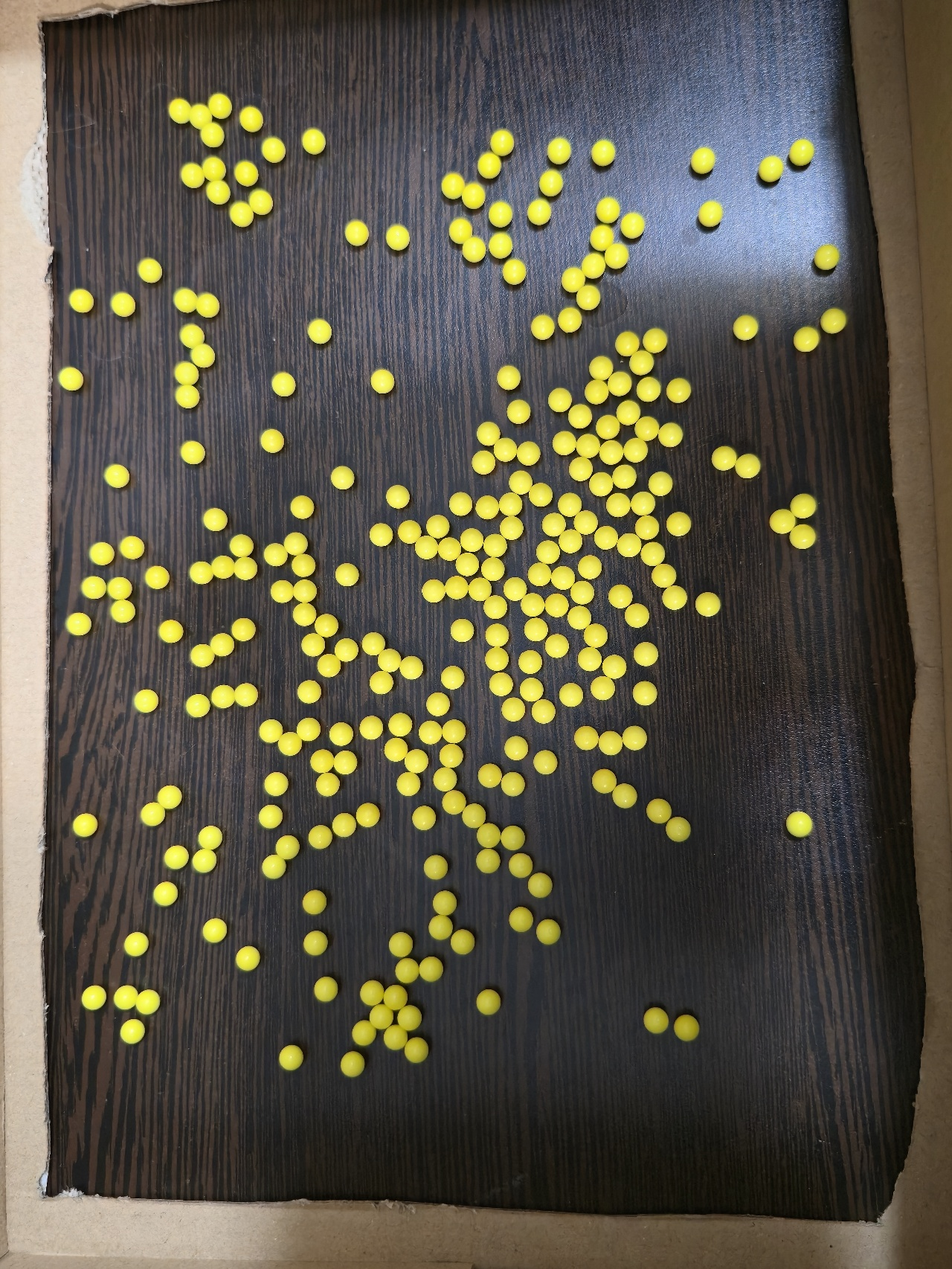yellow_bead: (174, 107, 218, 141), (185, 330, 208, 362), (179, 294, 213, 312), (792, 817, 806, 831), (139, 996, 154, 1009), (796, 530, 810, 543), (313, 324, 326, 338), (235, 207, 248, 221), (795, 145, 808, 159), (180, 367, 192, 382), (215, 562, 231, 573), (776, 515, 789, 528), (797, 500, 810, 513), (605, 446, 618, 459), (635, 356, 648, 369), (800, 333, 813, 346), (198, 853, 210, 867), (115, 605, 129, 617), (181, 388, 193, 402), (820, 251, 834, 263), (611, 249, 623, 263), (468, 243, 480, 257), (392, 230, 404, 244), (626, 219, 638, 233), (254, 195, 266, 209), (765, 162, 777, 176), (697, 153, 709, 167), (597, 146, 609, 160), (120, 992, 135, 1003), (351, 225, 362, 240), (126, 1026, 139, 1038), (130, 939, 143, 951), (208, 925, 221, 937), (268, 860, 280, 873), (204, 832, 216, 845), (146, 808, 159, 820), (628, 732, 641, 744), (298, 585, 311, 597), (238, 562, 251, 574), (672, 518, 685, 530), (504, 498, 516, 511), (618, 471, 631, 483), (741, 460, 754, 472), (718, 452, 730, 465), (582, 440, 594, 453), (664, 429, 677, 441), (602, 421, 614, 434), (595, 362, 607, 375), (649, 334, 661, 347), (740, 321, 752, 334), (827, 315, 840, 327), (564, 313, 576, 326), (117, 298, 129, 311), (582, 291, 594, 304), (567, 273, 579, 286), (704, 208, 716, 221), (212, 186, 224, 199), (307, 136, 320, 148), (217, 691, 231, 702), (196, 650, 210, 661), (509, 265, 520, 279), (495, 238, 506, 252), (268, 143, 279, 157), (242, 953, 254, 965), (482, 855, 494, 867), (506, 832, 518, 844), (483, 830, 495, 842), (672, 823, 684, 835), (402, 778, 414, 790), (510, 742, 522, 754), (425, 727, 437, 739), (265, 725, 277, 737), (538, 706, 550, 718), (139, 695, 151, 707), (639, 687, 651, 699), (608, 661, 620, 673), (584, 653, 596, 665), (640, 649, 652, 661), (590, 630, 602, 642), (702, 599, 714, 611), (669, 592, 681, 604), (614, 591, 626, 603), (584, 562, 596, 574), (489, 540, 501, 552), (506, 522, 518, 534), (641, 521, 653, 533), (613, 499, 625, 511), (637, 498, 649, 510), (535, 489, 547, 501), (595, 478, 607, 490), (654, 478, 666, 490), (515, 477, 527, 489), (629, 444, 641, 456), (559, 437, 571, 449), (641, 423, 653, 435), (673, 385, 685, 397), (495, 209, 507, 221), (186, 169, 198, 181), (163, 792, 176, 803), (238, 690, 251, 701), (87, 582, 100, 593), (556, 573, 569, 584), (125, 542, 138, 553), (289, 539, 302, 550), (481, 502, 494, 513), (574, 410, 585, 423), (591, 385, 602, 398), (643, 383, 654, 396), (278, 378, 289, 391), (377, 375, 388, 388), (144, 264, 155, 277), (588, 259, 599, 272), (214, 640, 228, 650), (71, 619, 85, 629), (196, 568, 210, 578), (547, 176, 557, 190), (285, 1052, 296, 1064), (88, 992, 100, 1003), (395, 939, 406, 951), (435, 922, 446, 934), (160, 889, 172, 900), (170, 852, 182, 863), (282, 842, 293, 854), (79, 820, 91, 831), (338, 820, 350, 831), (418, 812, 429, 824), (265, 812, 277, 823), (653, 806, 665, 817), (619, 791, 631, 802), (507, 778, 518, 790), (440, 774, 451, 786), (539, 756, 550, 768), (446, 750, 457, 762), (605, 738, 617, 749), (335, 729, 347, 740), (303, 687, 315, 698), (526, 684, 538, 695), (597, 683, 609, 694), (447, 672, 458, 684), (524, 657, 536, 668), (341, 644, 352, 656), (551, 641, 563, 652), (321, 620, 332, 632), (631, 611, 643, 622), (489, 602, 501, 613), (550, 600, 562, 611), (527, 600, 539, 611), (577, 587, 588, 599), (428, 586, 440, 597), (509, 584, 521, 595), (474, 584, 486, 595), (658, 571, 670, 582), (534, 569, 546, 580), (487, 563, 498, 575), (647, 549, 659, 560), (95, 548, 107, 559), (542, 547, 554, 558), (443, 544, 455, 555), (421, 542, 433, 553), (623, 540, 635, 551), (236, 540, 247, 552), (600, 533, 612, 544), (548, 519, 560, 530), (565, 499, 576, 511), (455, 498, 466, 510), (111, 470, 122, 482), (522, 448, 534, 459), (186, 447, 198, 458), (500, 444, 512, 455), (266, 435, 277, 447), (483, 428, 494, 440), (623, 407, 634, 419), (554, 394, 565, 406), (614, 378, 625, 390), (65, 373, 76, 385), (504, 372, 515, 384), (74, 295, 86, 306), (450, 584, 463, 594), (208, 515, 221, 525), (425, 964, 436, 975), (310, 938, 321, 949), (515, 914, 526, 925), (430, 862, 441, 873), (515, 861, 526, 872), (315, 832, 326, 843), (448, 798, 459, 809), (322, 779, 333, 790), (484, 771, 495, 782), (411, 756, 422, 767), (390, 745, 401, 756), (284, 739, 295, 750), (581, 733, 592, 744), (448, 726, 459, 737), (394, 719, 405, 730), (432, 699, 443, 710), (565, 690, 576, 701), (495, 679, 506, 690), (376, 677, 387, 688), (492, 654, 503, 665), (307, 640, 318, 651), (530, 624, 541, 635), (574, 612, 585, 623), (113, 583, 124, 594), (298, 560, 309, 571), (462, 559, 473, 570), (565, 536, 576, 547), (466, 535, 477, 546), (376, 530, 387, 541), (404, 527, 415, 538), (432, 522, 443, 533), (580, 518, 591, 529), (337, 472, 348, 483), (478, 457, 489, 468), (513, 406, 524, 417), (483, 997, 493, 1009), (321, 983, 331, 995), (543, 926, 553, 938), (439, 897, 449, 909), (469, 810, 479, 822), (270, 780, 282, 790), (339, 758, 351, 768), (508, 704, 518, 716), (405, 663, 417, 673), (384, 656, 396, 666), (299, 608, 309, 620), (277, 587, 289, 597), (270, 550, 282, 560), (576, 463, 586, 475), (621, 340, 633, 350), (538, 321, 548, 333), (602, 203, 614, 213), (553, 148, 565, 158), (309, 897, 319, 908), (534, 880, 544, 891), (599, 777, 610, 787), (303, 725, 314, 735), (366, 723, 377, 733), (492, 631, 503, 641), (457, 626, 468, 636), (297, 502, 307, 513), (392, 492, 403, 502), (341, 571, 353, 580), (164, 629, 177, 637), (324, 661, 334, 671), (150, 573, 160, 583), (347, 1059, 356, 1070), (404, 1013, 413, 1024), (402, 965, 411, 976), (457, 937, 466, 948), (362, 812, 373, 821), (368, 640, 379, 649), (596, 234, 605, 245), (366, 988, 374, 1000), (238, 626, 248, 635), (651, 1015, 658, 1027), (316, 758, 325, 767), (193, 704, 204, 711), (533, 213, 545, 219), (390, 1034, 397, 1044), (411, 1048, 419, 1056), (376, 1013, 382, 1023), (455, 226, 461, 236), (448, 184, 455, 192), (358, 1029, 364, 1038), (208, 164, 213, 170), (245, 115, 250, 121), (390, 992, 394, 999), (215, 100, 219, 107), (240, 170, 245, 175), (683, 1027, 687, 1033), (469, 193, 475, 197), (500, 138, 502, 142), (489, 162, 490, 164), (203, 703, 204, 704)
